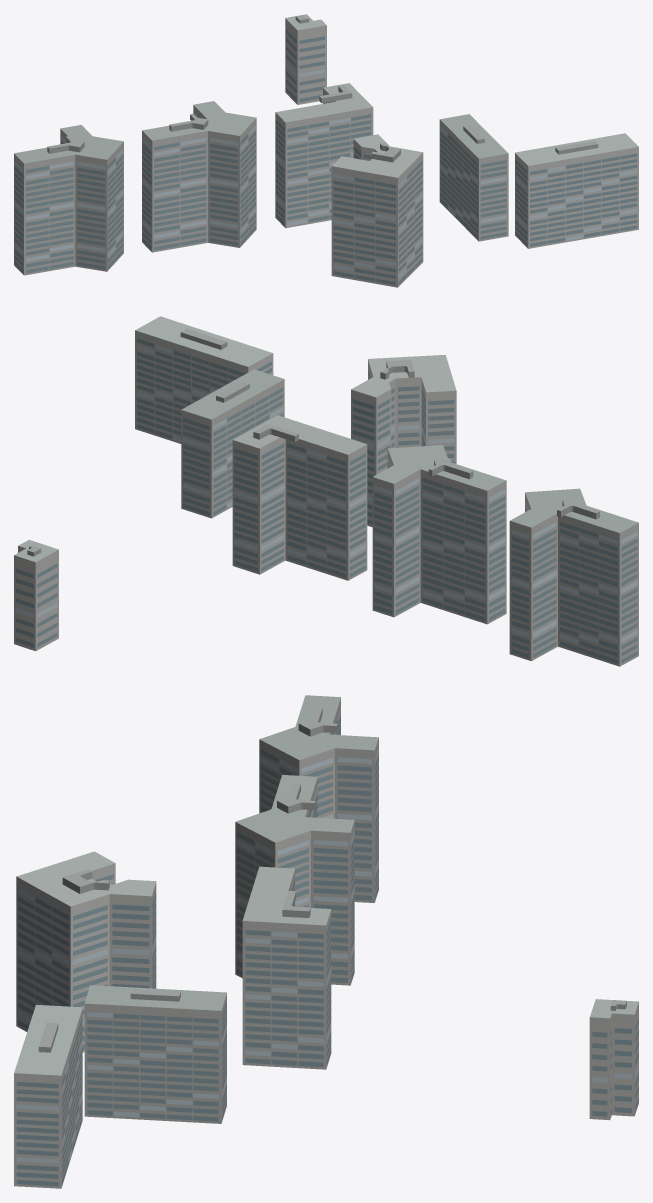
File: apt-a10025423.glb
3 renders of one model, top to bottom at view 1: azimuth 30°, elevation 25°; view 2: azimuth 150°, elevation 25°; view 3: azimuth 270°, elevation 25°, orthographic. The views are drawn at different scales.
Visible parts, largest first — view 1: apt-a10025423; view 2: apt-a10025423; view 3: apt-a10025423.
Part boxes in pixels (bbox=[...]): apt-a10025423: bbox=[14, 14, 638, 287]; apt-a10025423: bbox=[14, 316, 638, 666]; apt-a10025423: bbox=[14, 695, 638, 1188].
Bounding box in the file's own units: 247 × 54 × 191.
